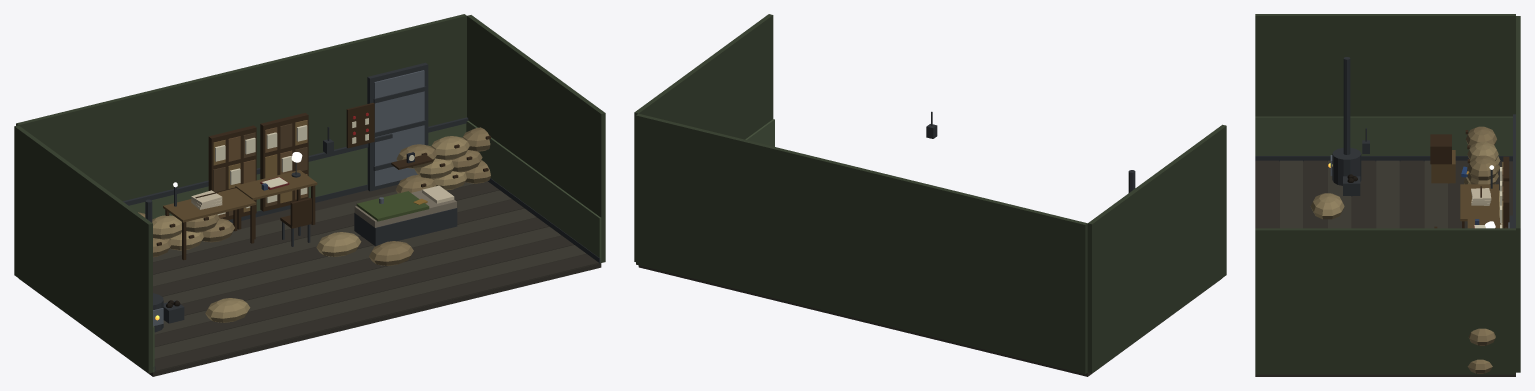
The model's file is mailvan.glb.
The picture shows the model from 3 angles, left to right: view 1: azimuth 30°, elevation 25°; view 2: azimuth 150°, elevation 25°; view 3: azimuth 270°, elevation 25°; orthographic projection. The views are drawn at different scales.
Visible parts, largest first — view 1: WallBack, WallLeft, WallRight, Plank0, Plank1, Plank2, BandRight, Plank3, VanDoorIn, Plank5, Plank4, Floor (+27 smaller); view 2: WallBack, WallLeft, WallRight, Floor; view 3: WallRight, WallLeft, BandLeft, Floor, WallBack, Plank5, Plank0, Plank6, Plank1, Plank4, Plank2, Plank7 (+19 smaller).
Boxes of the visible parts, box(x1,y1,x2,y2) form: WallBack: box(16, 14, 466, 201); WallLeft: box(14, 125, 152, 373); WallRight: box(467, 15, 605, 262); Plank0: box(154, 254, 598, 371); Plank1: box(154, 245, 586, 359); Plank2: box(154, 236, 573, 346); BandRight: box(466, 120, 601, 263); Plank3: box(154, 226, 561, 334); VanDoorIn: box(374, 70, 424, 186); Plank5: box(163, 208, 536, 304); Plank4: box(163, 217, 548, 320); Floor: box(19, 184, 601, 376); WallBack: box(636, 113, 1087, 374); WallLeft: box(1087, 124, 1226, 373); WallRight: box(634, 14, 773, 261); Floor: box(638, 265, 1221, 376); WallRight: box(1255, 228, 1515, 374); WallLeft: box(1255, 14, 1515, 116); BandLeft: box(1255, 116, 1512, 155); Floor: box(1255, 161, 1515, 376); WallBack: box(1516, 16, 1520, 372); Plank5: box(1376, 160, 1399, 228); Plank0: box(1255, 160, 1278, 228); Plank6: box(1400, 160, 1423, 228); Plank1: box(1280, 160, 1302, 228); Plank4: box(1352, 160, 1375, 228); Plank2: box(1304, 160, 1327, 228); Plank7: box(1424, 160, 1447, 228).
Size of the model in its own units: 10.84 by 3.4 by 5.5.
